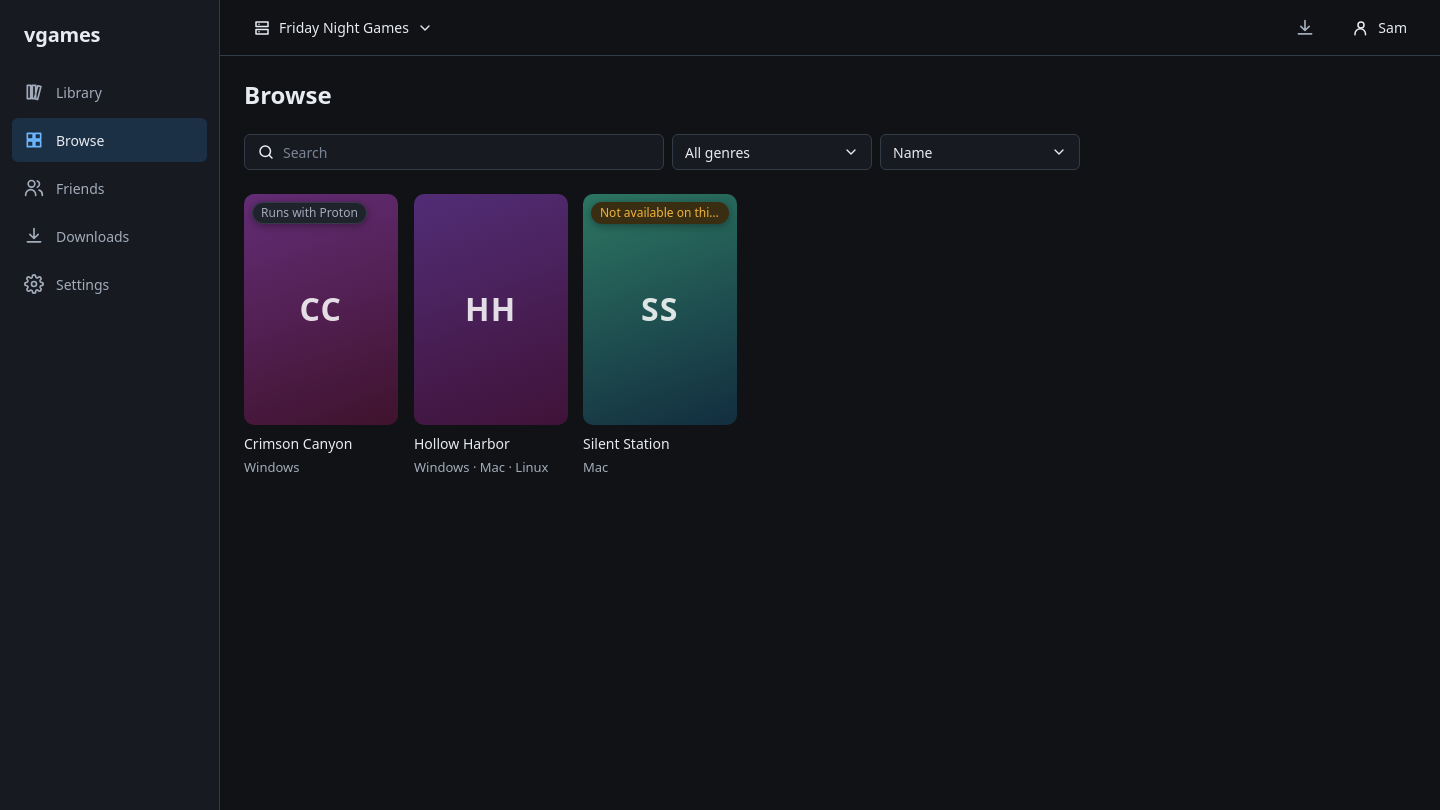
Test: browse › offers to clear the filters when nothing matches
Check: the link "HH Hollow Harbor Windows · Mac · Linux" is shown, box left=414, top=194, right=567, bottom=477
Click the dropdown labelled "genre": (772,152) left=672, top=134, right=872, bottom=170
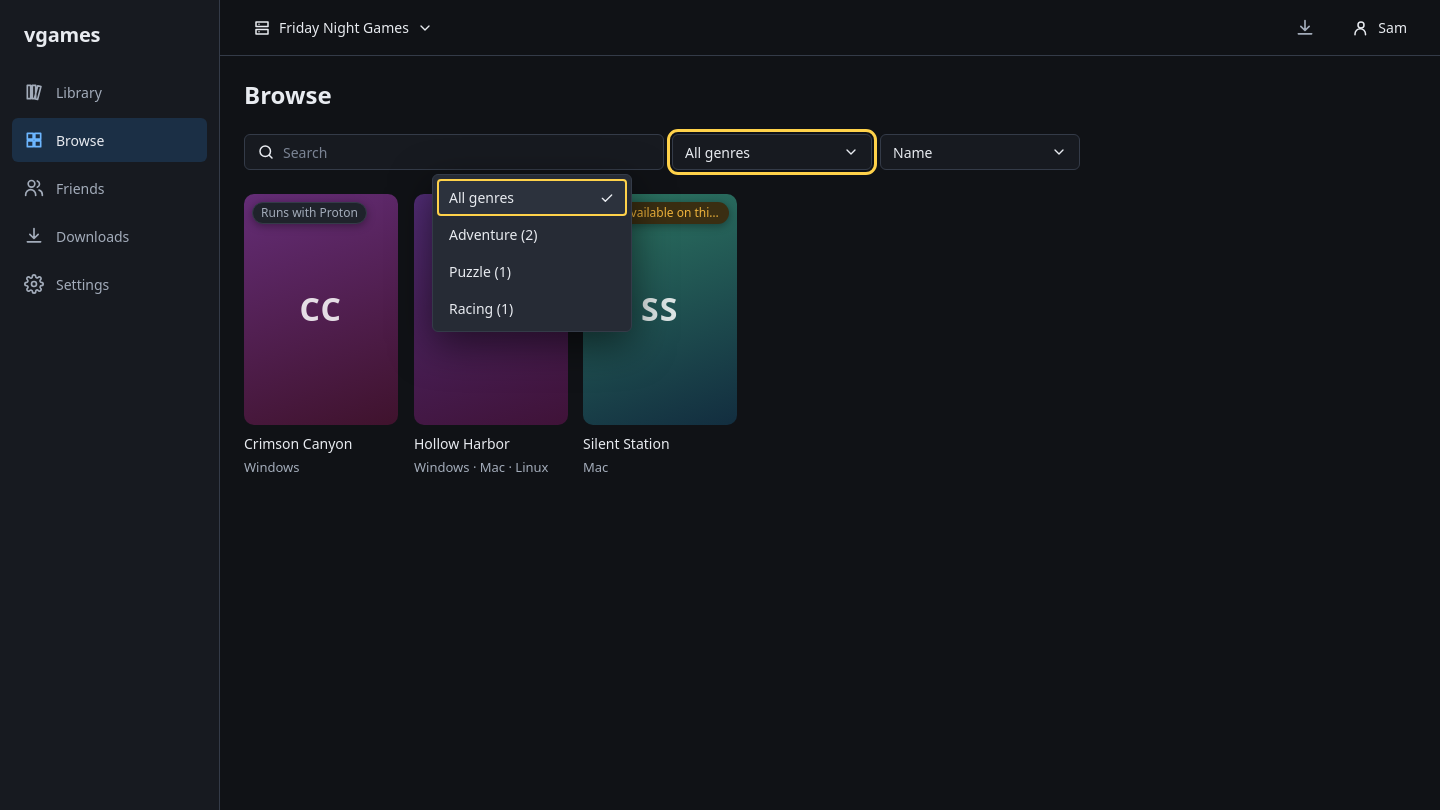
Click the option "Racing (1)": (481,308) left=449, top=299, right=513, bottom=318
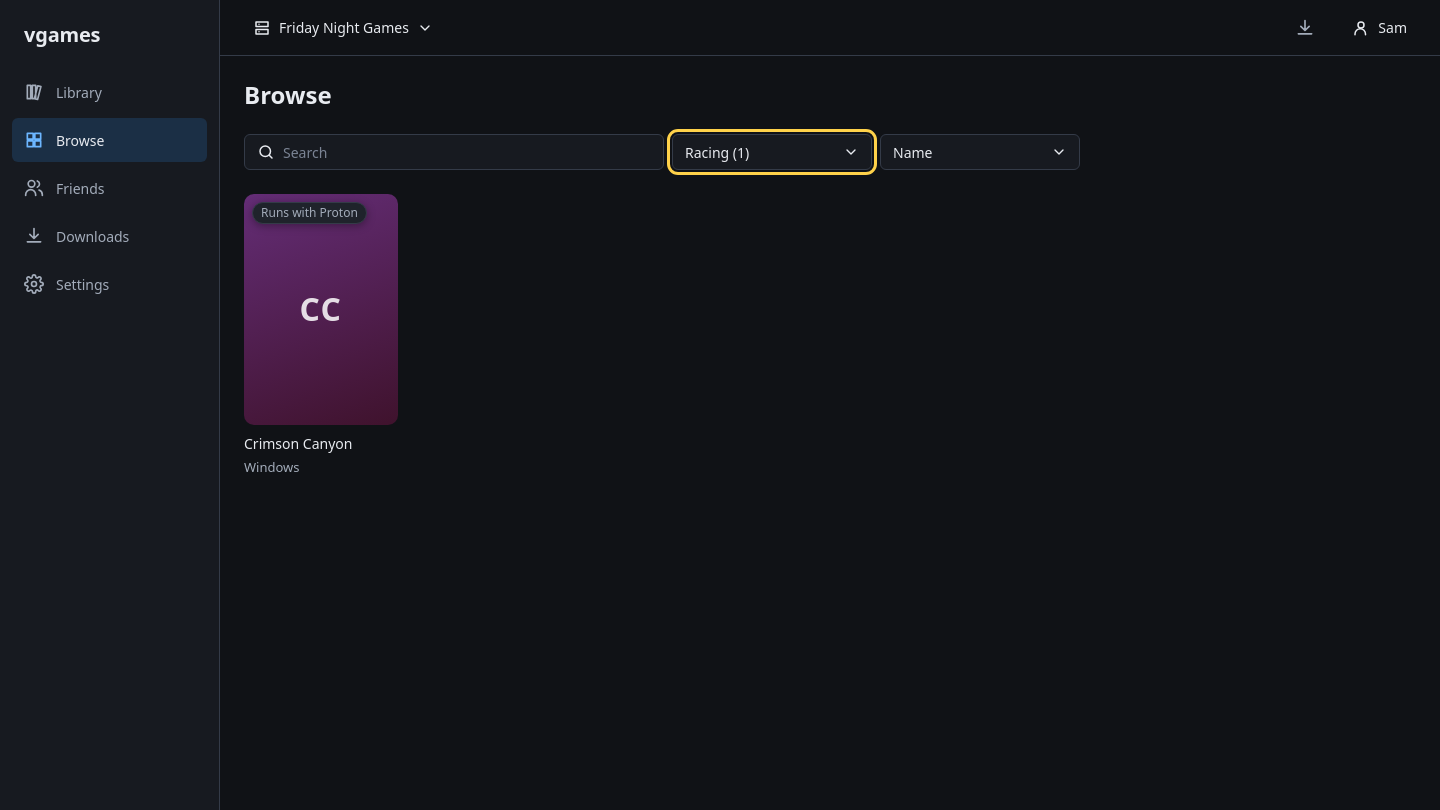
In the search field named "Search the catalog": (467,152) left=283, top=135, right=651, bottom=169, type "harbor"
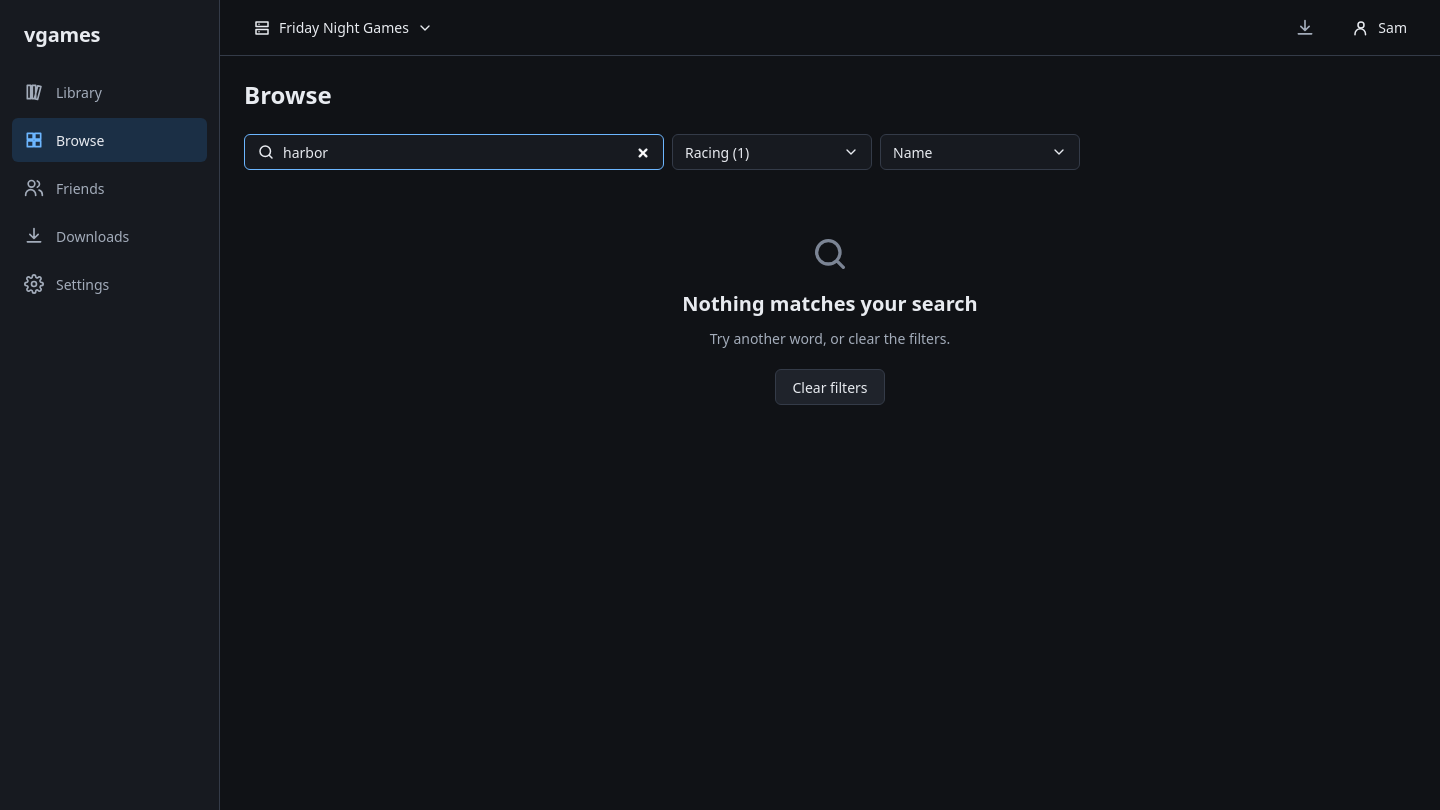
Check: the heading "Nothing matches your search" is shown, box left=682, top=291, right=978, bottom=316
Click the button "Clear filters": (830,387) left=775, top=369, right=884, bottom=405
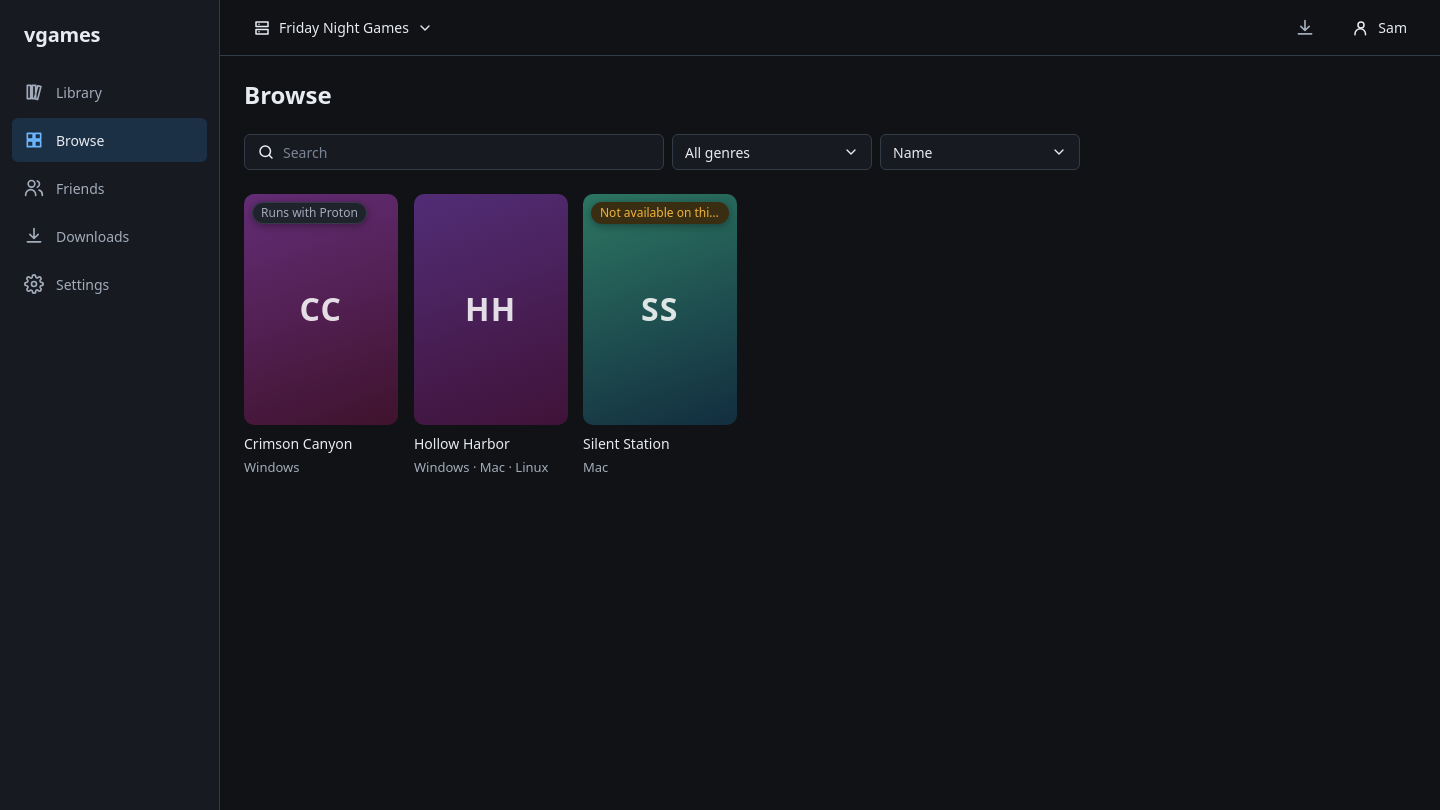
Check: the search field named "Search the catalog" is empty, box left=283, top=135, right=651, bottom=169
Check: the dropdown labelled "genre" reads "All genres", box left=672, top=134, right=872, bottom=170
